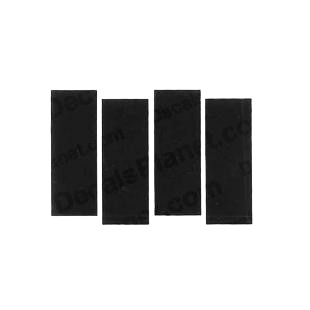rectangulo: (205, 98, 254, 226), (154, 90, 202, 216), (102, 98, 148, 225), (51, 90, 97, 216)
